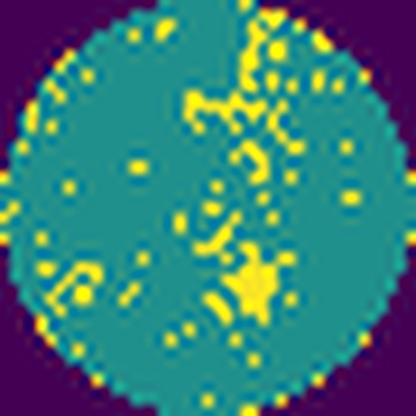Loc: (221, 242, 284, 330), (178, 89, 269, 138), (238, 17, 272, 89), (231, 140, 273, 189)
